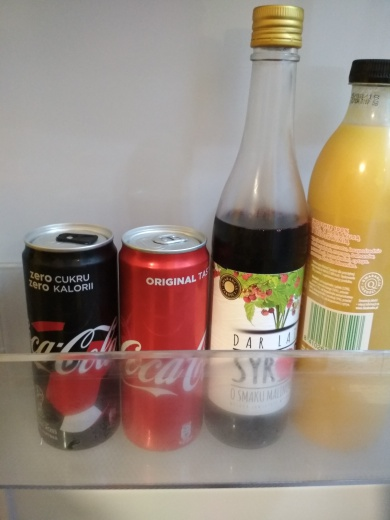cola: (116, 218, 215, 454)
colazero: (19, 213, 121, 456)
